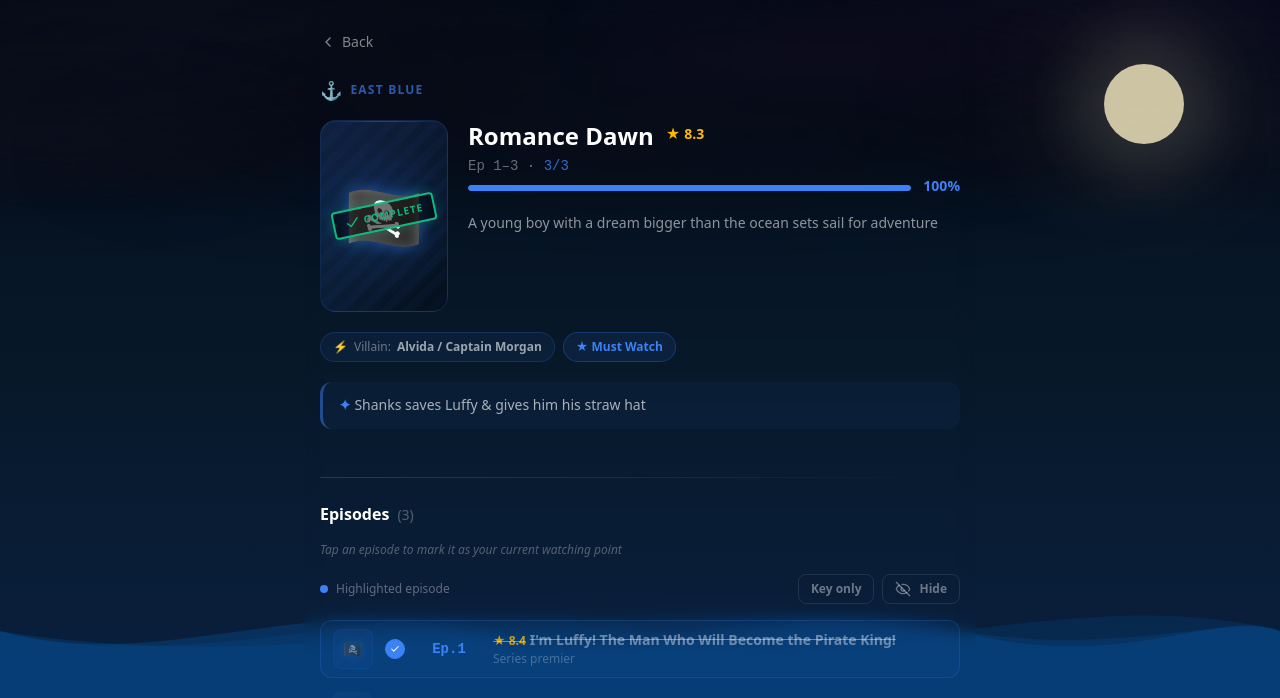
Test case: app browser flows › shows arc meta, completion state, and empty episode filters
Check: the text "★ Must Watch" is shown, box [563,332,676,362]
Check: the text "✦ Shanks saves Luffy & gives him his straw hat" is shown, box [320,382,960,429]
Click the button "Hide". click: click(921, 589)
box: [882,574,960,604]
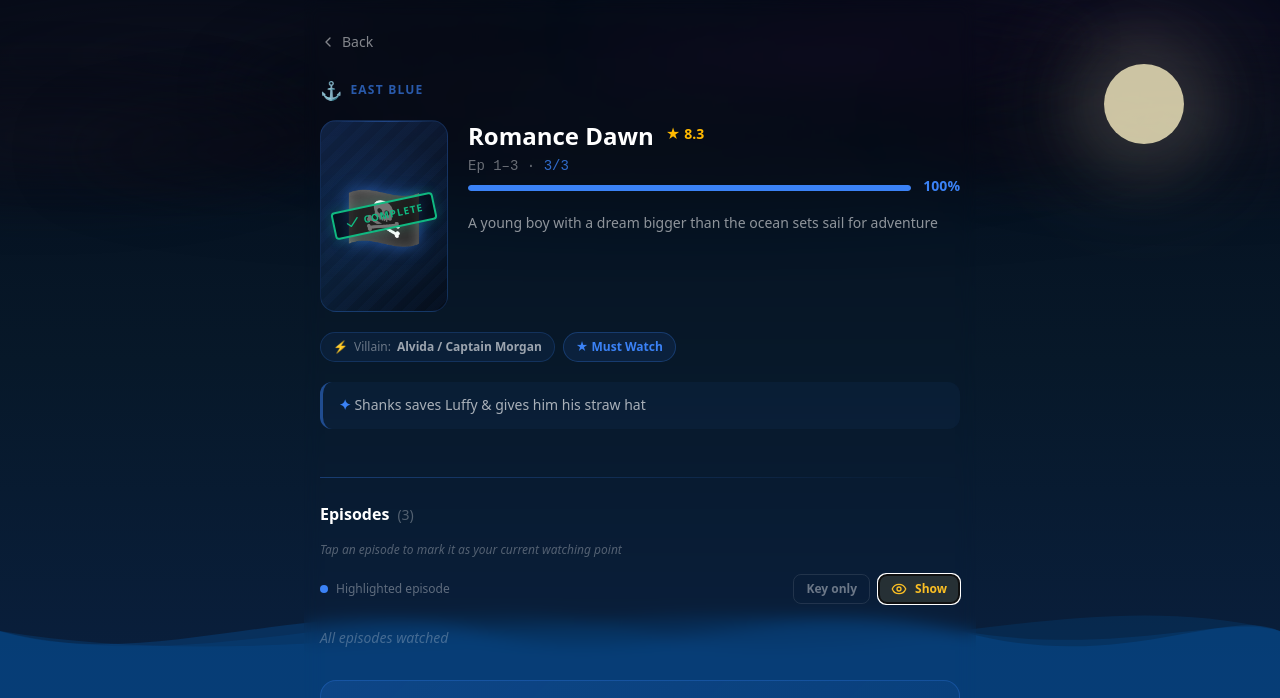
Check: the text "All episodes watched" is shown, box [320,628,448,647]
